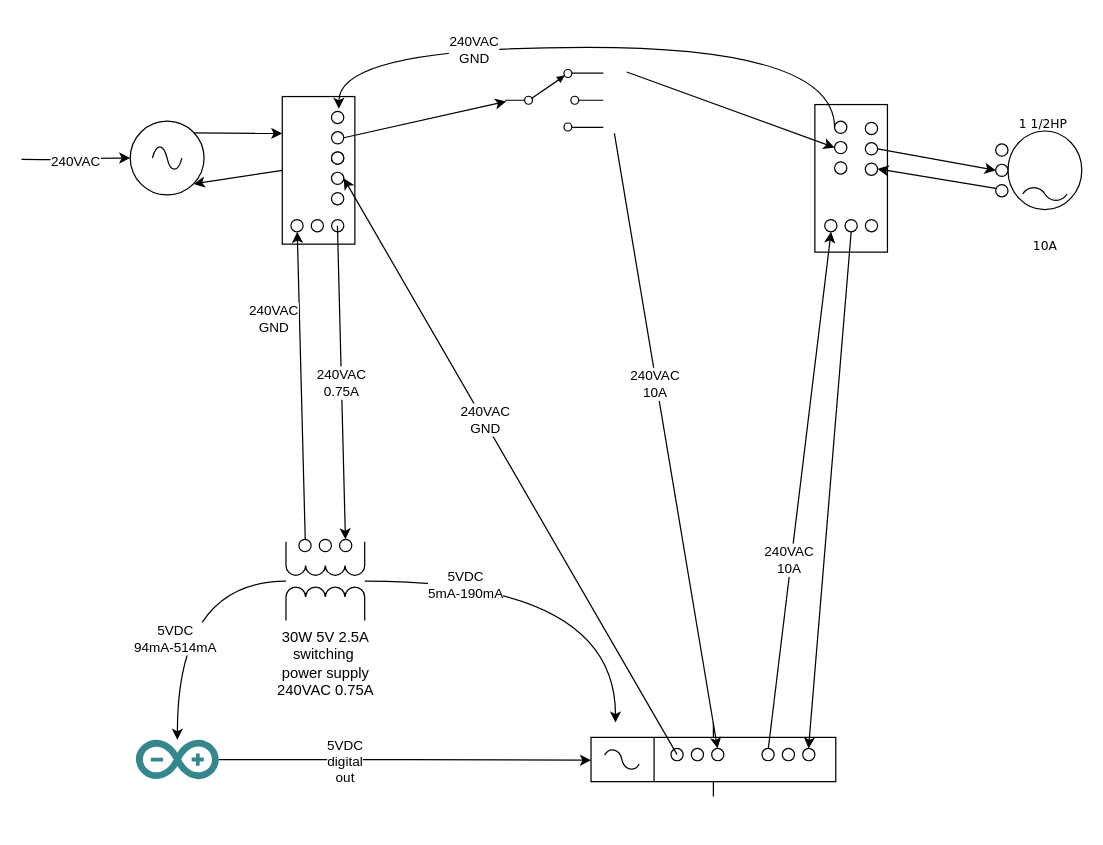
Image size: 1103x845. Some labels were removed from this diagram. Here are the shapes that lost their labels. From the top down, the centre of each, then its label:
At (x=553, y=99): "SPDT toggle switch".
At (x=176, y=759): "Arduino UNO WiFi".
